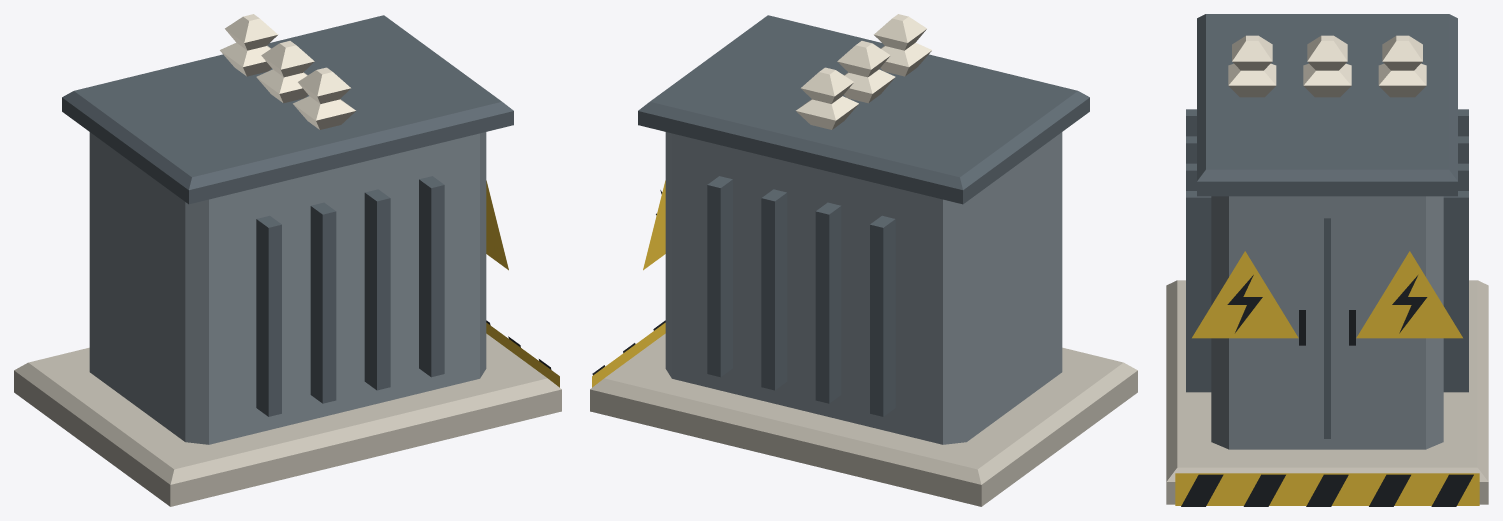
Rendered from transformer.glb.
The picture shows the model from 3 angles, left to right: view 1: azimuth 30°, elevation 25°; view 2: azimuth 150°, elevation 25°; view 3: azimuth 270°, elevation 25°; orthographic projection. The views are drawn at different scales.
Parts seen in each view (by area): view 1: transformer; view 2: transformer; view 3: transformer.
Part boxes in pixels (left/top/right/bottom): transformer: left=14, top=14, right=561, bottom=506; transformer: left=590, top=14, right=1137, bottom=506; transformer: left=1166, top=14, right=1488, bottom=506.
Size of the model in its own units: 0.263 by 0.227 by 0.18.
